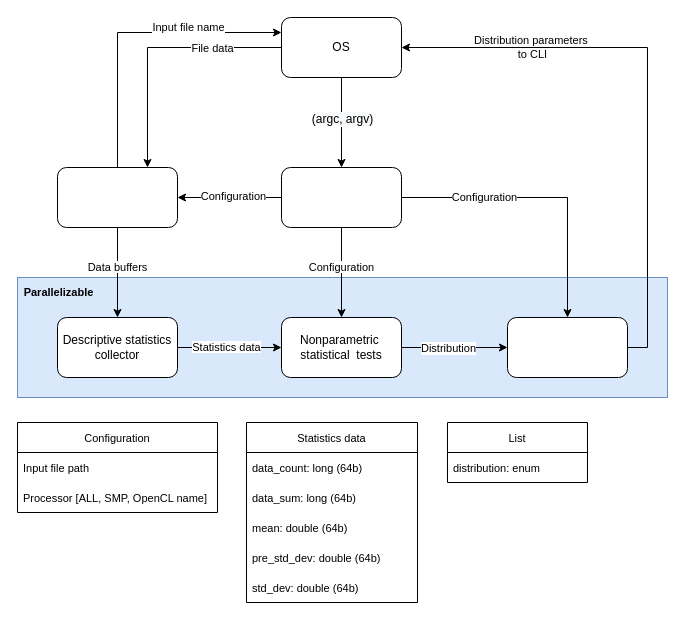
Image size: 685x620. Some labels were removed from this diagram. The shapes that lost their labels are listed below. From the top down, each one's centre as x and y in pixels, then its label:
At point (117, 197): "Data buffer procedure".
At point (341, 197): "Arguments parser".
At point (567, 347): "Maximum likelihood estimation (MLE)".
